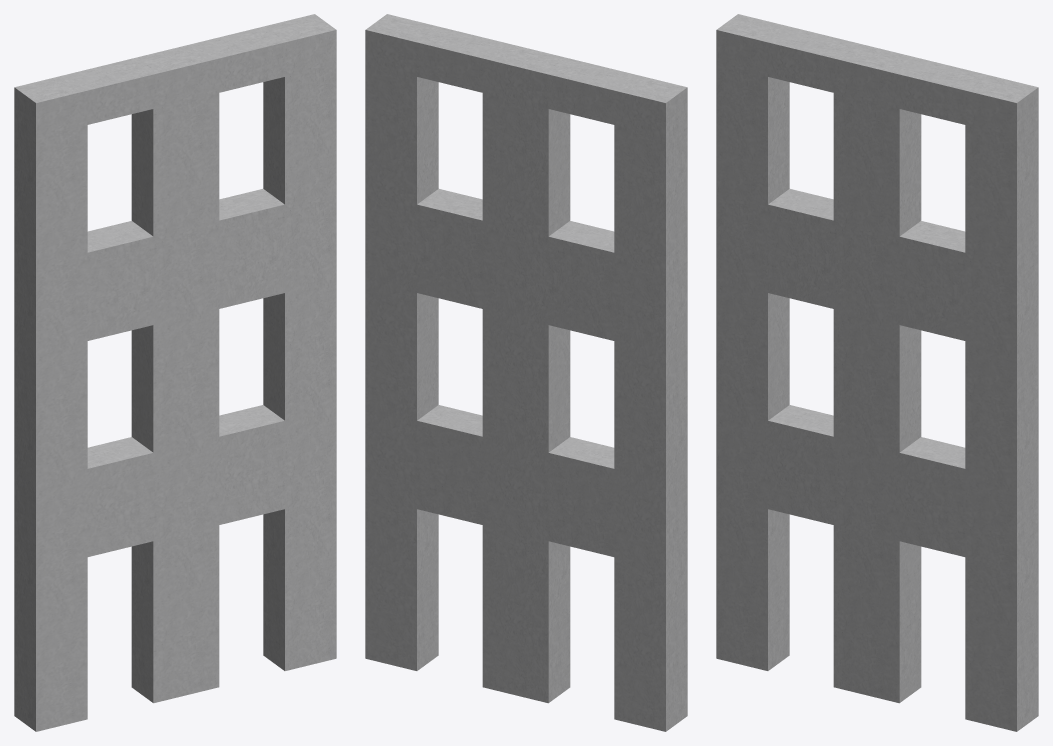
The model's file is GJ_Wall_02.fbx.
3 views of the same model, side by side, from view 1: azimuth 30°, elevation 25°; view 2: azimuth 150°, elevation 25°; view 3: azimuth 330°, elevation 25° (orthographic).
Parts seen in each view (by area): view 1: GJ_Wall_02; view 2: GJ_Wall_02; view 3: GJ_Wall_02.
Part boxes in pixels (box(x1,y1,x2,y2)): GJ_Wall_02: box(14, 14, 336, 731); GJ_Wall_02: box(365, 14, 687, 731); GJ_Wall_02: box(716, 14, 1038, 731).
Size of the model in its own units: 400 by 800 by 50.
